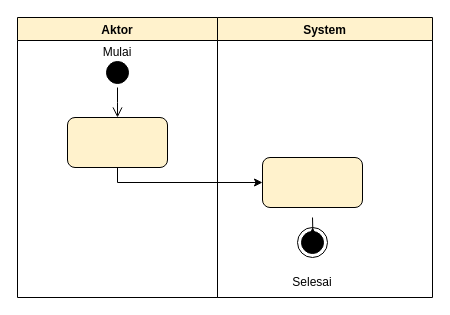
Some shapes in this 450 by 315 pixel diagram are drawn without their labels. Here are the shapes that lost their labels. From the top down, the centre of each, then its label:
pixel 117 142: Logout
pixel 312 182: Menampilkan Login
